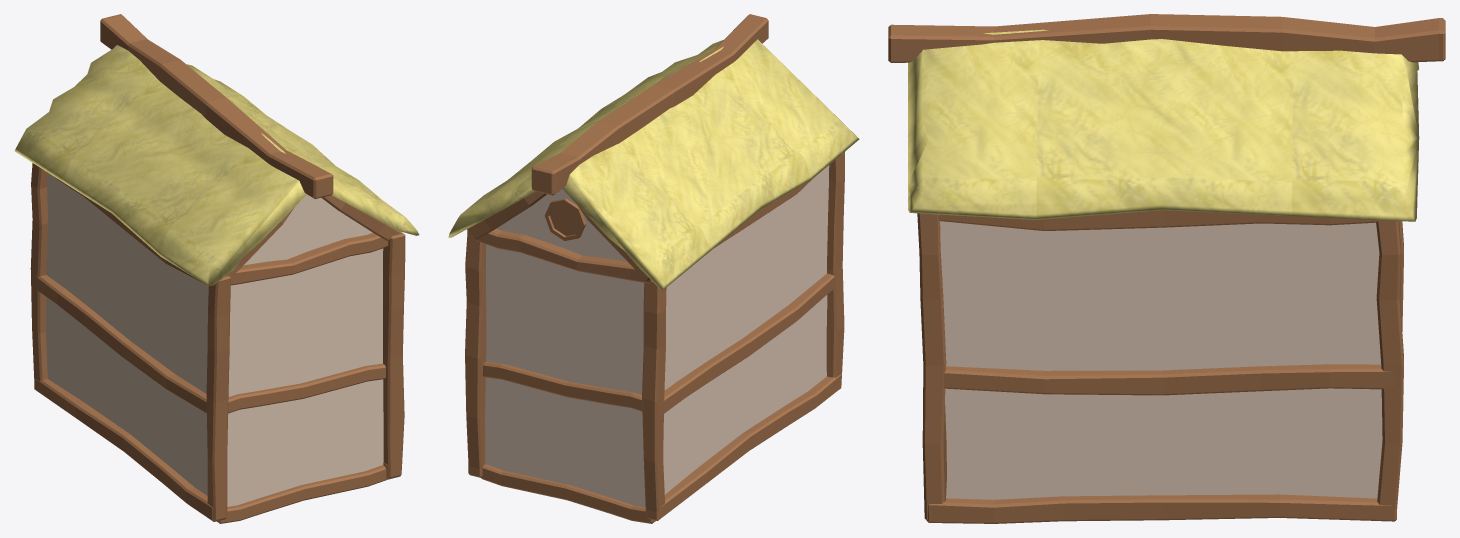
The model's file is House.fbx.
The picture shows the model from 3 angles, left to right: view 1: azimuth 30°, elevation 25°; view 2: azimuth 150°, elevation 25°; view 3: azimuth 270°, elevation 25°; orthographic projection. The views are drawn at different scales.
Visible parts, largest first — view 1: Cube; view 2: Cube; view 3: Cube.
Boxes of the visible parts, left/top/right/bottom form: Cube: left=14, top=14, right=419, bottom=523; Cube: left=448, top=14, right=859, bottom=523; Cube: left=888, top=14, right=1445, bottom=523.
Bounding box in the file's own units: 427 × 664 × 746.
